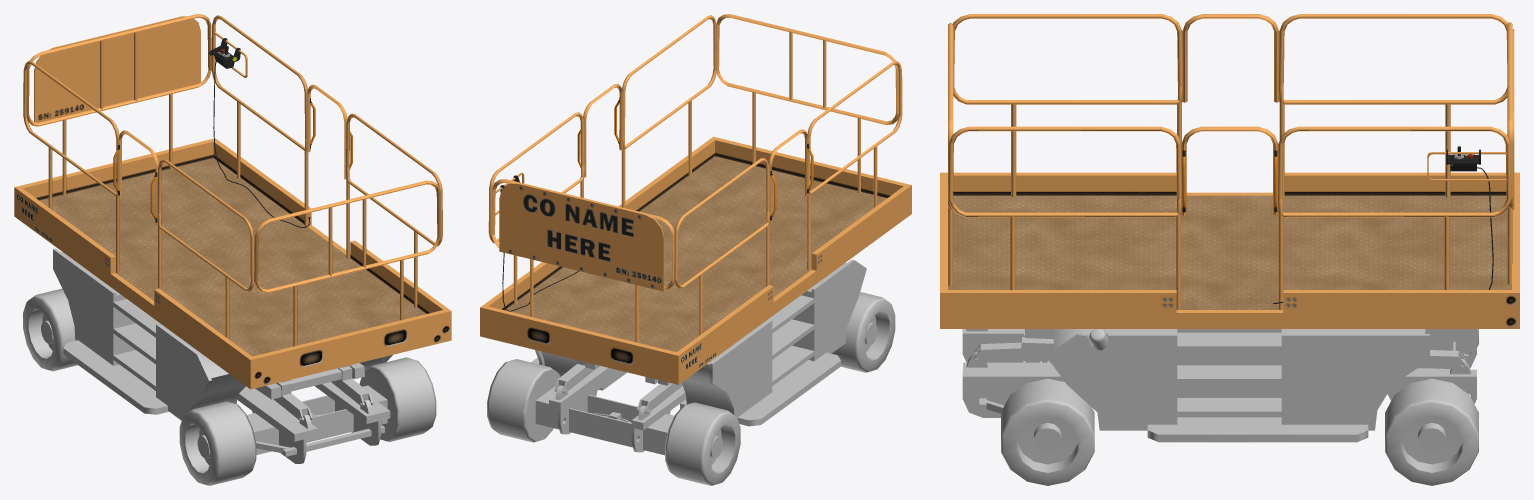
The model's file is scissor_lift_1.fbx.
3 views of the same model, side by side, from view 1: azimuth 30°, elevation 25°; view 2: azimuth 150°, elevation 25°; view 3: azimuth 270°, elevation 25° (orthographic). The views are drawn at different scales.
Visible parts, largest first — view 1: base, left_body, wheel1, wheel2, center_Body, wheel3, front_body, arm_1a, panel, arm_2b, door2, door1 (+1 smaller); view 2: base, left_body, wheel3, wheel4, back_body, wheel1, center_Body, arm_1b, door1, door2, right_body; view 3: base, right_body, wheel4, wheel2, center_Body, door1, door2, panel, arm_1b, arm_1a.
Part boxes in pixels (x1,y1,x2,y2): base: (14,14,451,389); left_body: (53,248,245,420); wheel1: (179,401,256,485); wheel2: (359,357,436,441); center_Body: (237,382,390,463); wheel3: (23,288,77,371); front_body: (247,385,387,456); arm_1a: (273,378,372,422); panel: (209,32,310,227); arm_2b: (276,366,352,395); door2: (113,130,158,224); door1: (307,84,352,179); base: (480,14,911,384); left_body: (680,259,866,426); wheel3: (665,402,740,485); wheel4: (487,359,560,442); back_body: (535,386,674,455); wheel1: (831,292,895,372); center_Body: (549,366,686,452); arm_1b: (554,364,682,413); door1: (577,84,623,177); door2: (768,129,813,222); right_body: (531,350,626,390); base: (940,14,1519,328); right_body: (1046,329,1429,442); wheel4: (1385,378,1478,485); wheel2: (1001,378,1094,485); center_Body: (962,329,1476,417); door1: (1181,126,1278,215); door2: (1182,14,1279,102); panel: (1273,146,1507,303); arm_1b: (1021,337,1466,369); arm_1a: (973,342,1048,362).
Size of the model in its own units: 6.88 by 8.06 by 12.05.
